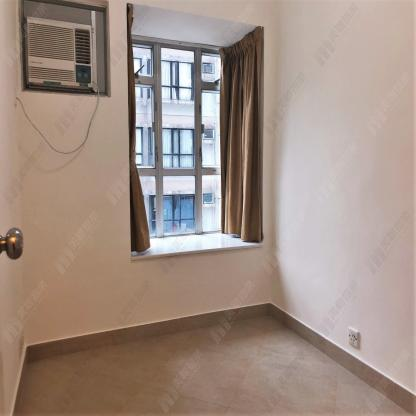AC: (27, 16, 93, 91)
Windowsill: (126, 4, 264, 262)
